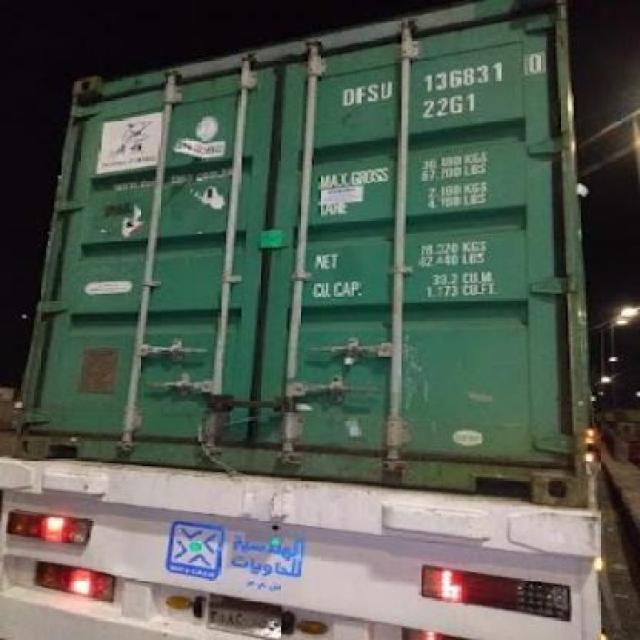ISO: (424, 93, 475, 117)
container_number: (333, 57, 544, 91)
